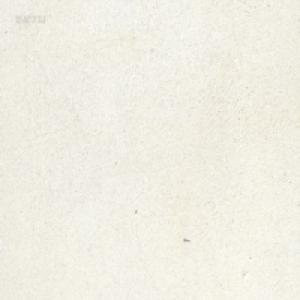Nail: (183, 237, 190, 242)
